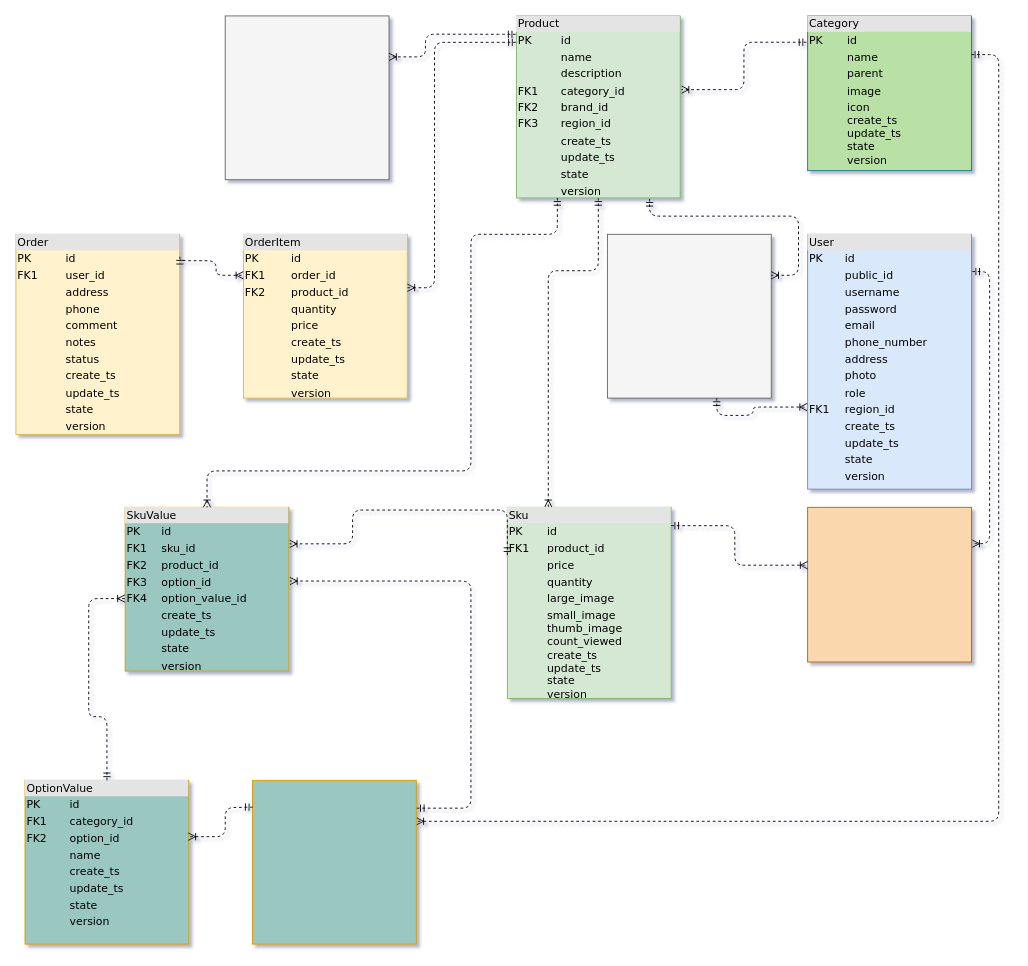
The diagram is 1028 pixels wide and 966 high, and some of its shapes have lost their labels. Each missing label, with the box of its shape:
Brand PK id FK1 product_id name type icon create_ts update_ts state version: (224, 15, 389, 180)
Cart PK id FK1 user_id FK2 sku_id quantity create_ts update_ts state version: (807, 506, 971, 662)
Option PK id FK1 category_id name create_ts update_ts state version: (252, 779, 416, 944)
Region PK id FK1 product_id name main_region create_ts update_ts state version: (607, 233, 771, 398)
